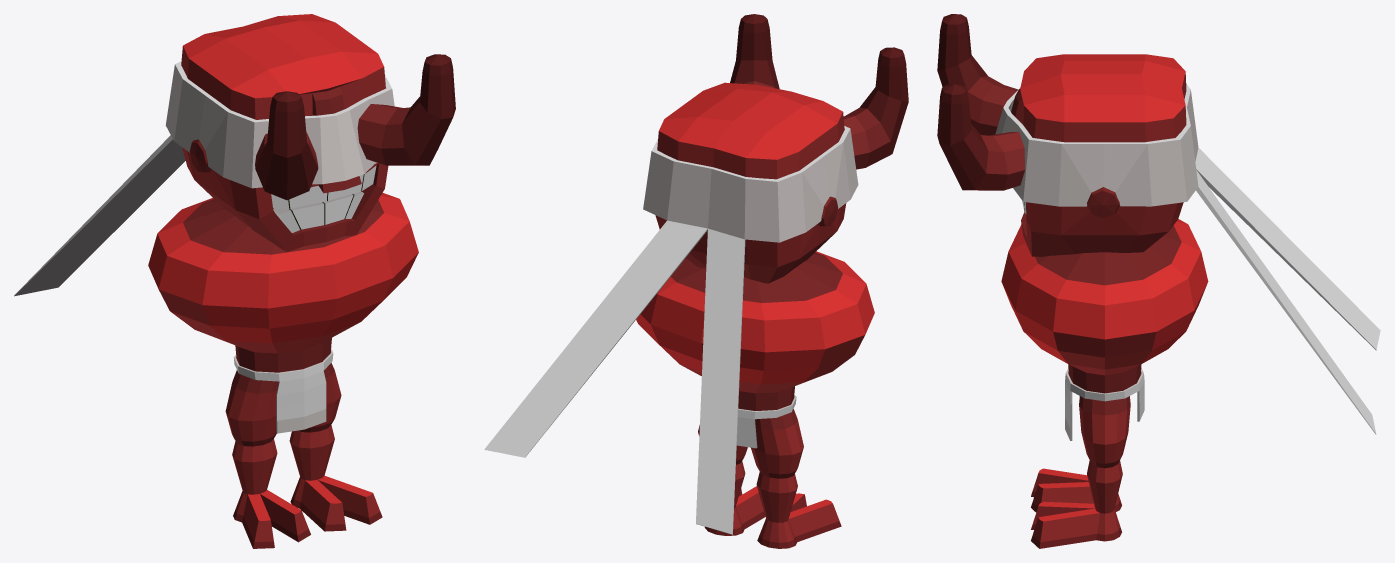
File: AIDAN corpo.fbx
3 renders of one model, left to right at view 1: azimuth 30°, elevation 25°; view 2: azimuth 150°, elevation 25°; view 3: azimuth 270°, elevation 25°, orthographic. The views are drawn at different scales.
Visible parts, largest first — view 1: AIDAN; view 2: AIDAN; view 3: AIDAN.
Part boxes in pixels (x1,y1,x2,y2): AIDAN: (14,14,455,548); AIDAN: (484,14,908,548); AIDAN: (937,14,1380,548).
Size of the model in its own units: 140 by 241 by 206.
Materials: 1 (1 with a texture image).
